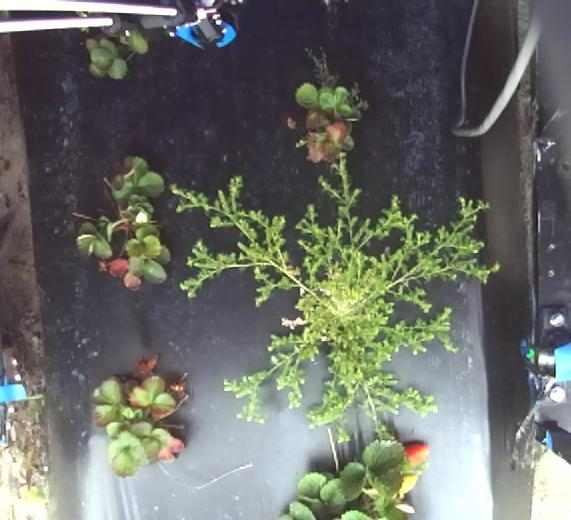mature: (402, 439, 430, 469)
